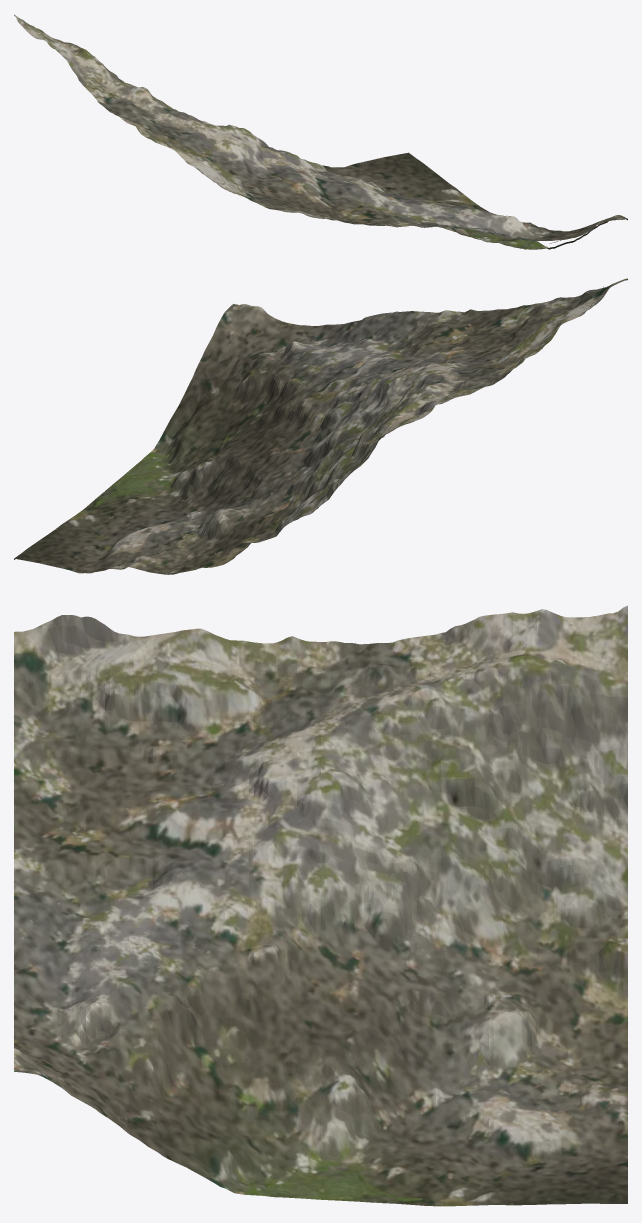
3 views of the same model, one above another, from view 1: azimuth 30°, elevation 25°; view 2: azimuth 150°, elevation 25°; view 3: azimuth 270°, elevation 25° (orthographic). The views are drawn at different scales.
Bounding box in the file's own units: 250 × 144 × 241.
1 material, 1 textured.
